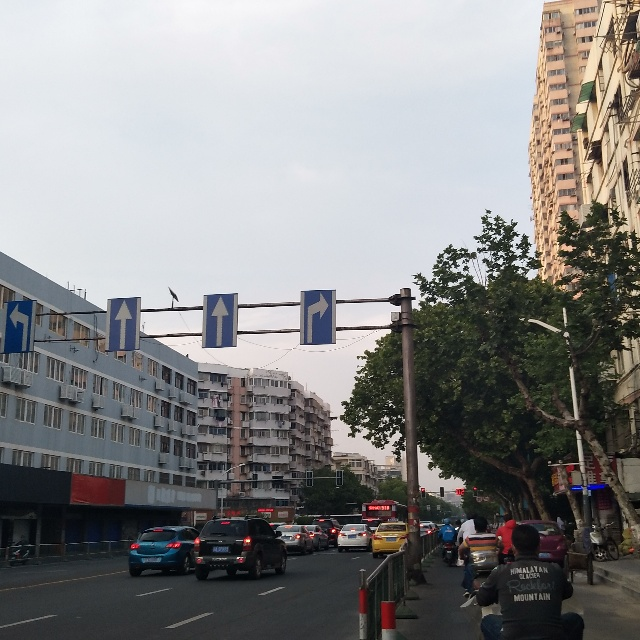left: (1, 305, 30, 351)
right: (298, 292, 331, 349)
straight: (206, 293, 233, 341), (110, 301, 134, 351)
